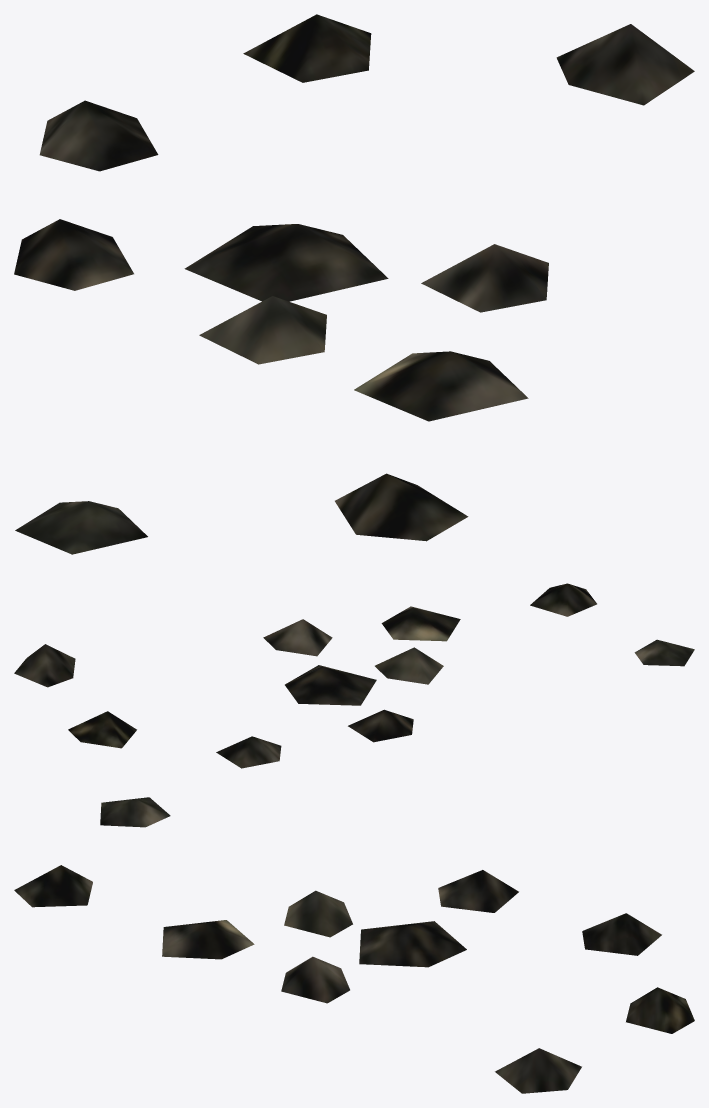
The model's file is rock_tfield3_hdtex.glb.
3 views of the same model, one above another, from view 1: azimuth 30°, elevation 25°; view 2: azimuth 150°, elevation 25°; view 3: azimuth 270°, elevation 25° (orthographic). The views are drawn at different scales.
Visible parts, largest first — view 1: Rock_TField3; view 2: Rock_TField3; view 3: Rock_TField3.
Part boxes in pixels (x1=…): Rock_TField3: x1=14, y1=14, x2=694, y2=554; Rock_TField3: x1=14, y1=583, x2=694, y2=768; Rock_TField3: x1=14, y1=797, x2=694, y2=1093.
Size of the model in its own units: 21.58 by 1.12 by 21.03.
1 material, 1 textured.
